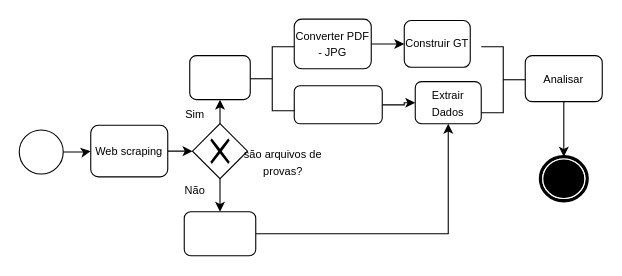
Image size: 622x276. Some labels were removed from this diagram. The centre of each missing label's shape, as x and y in pixels:
Gabaritos PDF: the point at 219,233
Provas PDF: the point at 219,77
Segmentar: the point at 337,104
